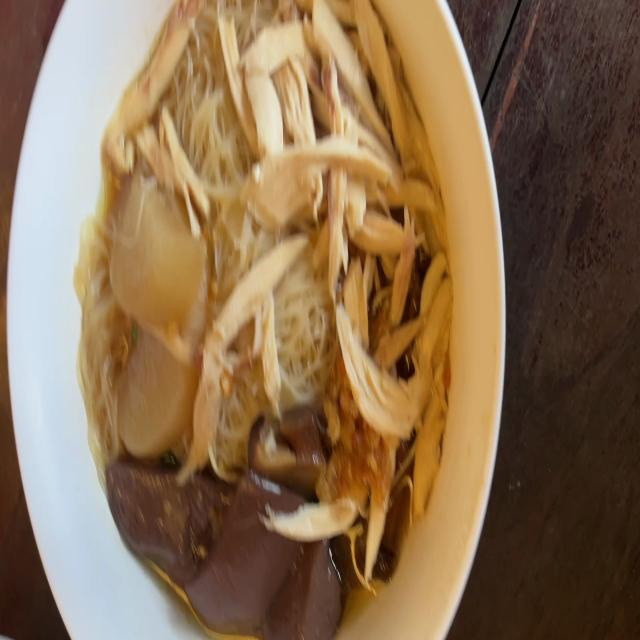boiled_chicken_blood_jelly: (87, 455, 332, 636)
chicken_shredded: (248, 0, 445, 239), (348, 253, 436, 530), (106, 7, 189, 170)
daikon_radish: (115, 182, 194, 440)
noodle: (80, 0, 463, 640)
